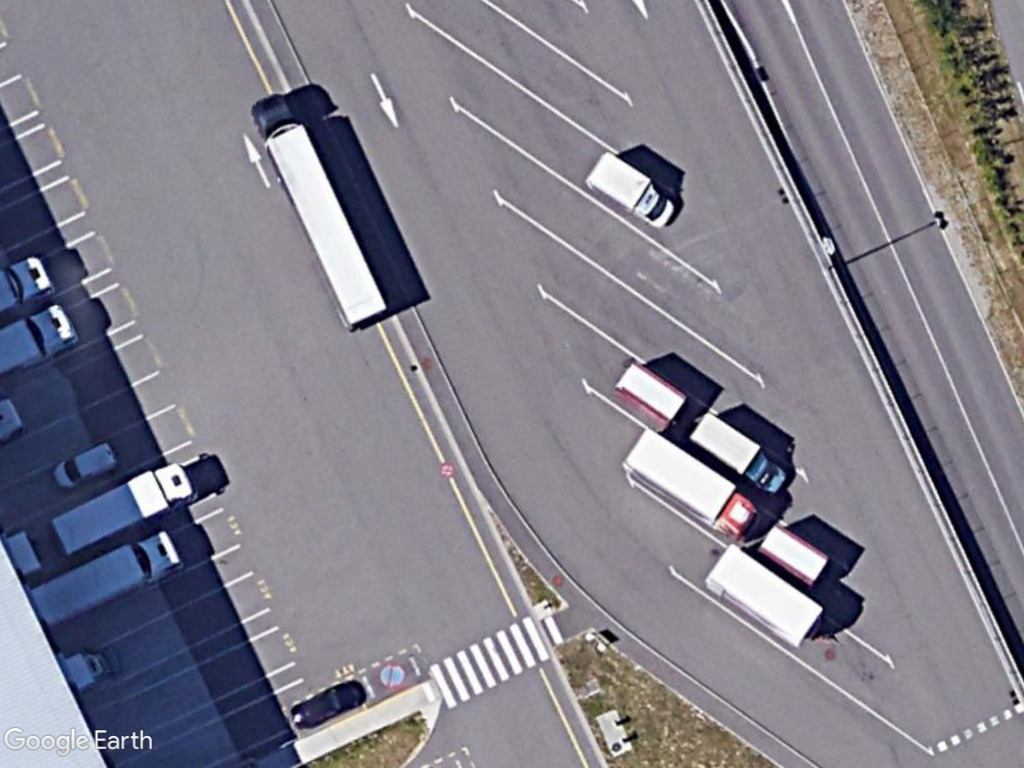longvehicle: (251, 93, 389, 333)
truck: (616, 422, 762, 543), (31, 527, 182, 626), (50, 462, 198, 557), (688, 405, 793, 499), (584, 145, 678, 232)
van: (49, 442, 120, 493)
